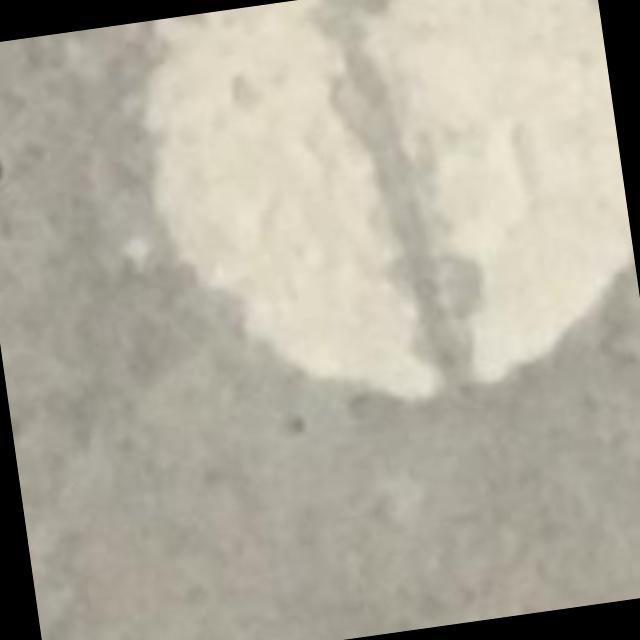peeling plaster: (147, 0, 634, 399)
